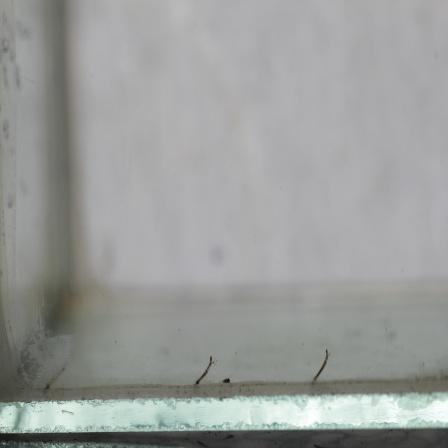Jentik-Nyamuk: (309, 346, 333, 383), (192, 352, 215, 387)
